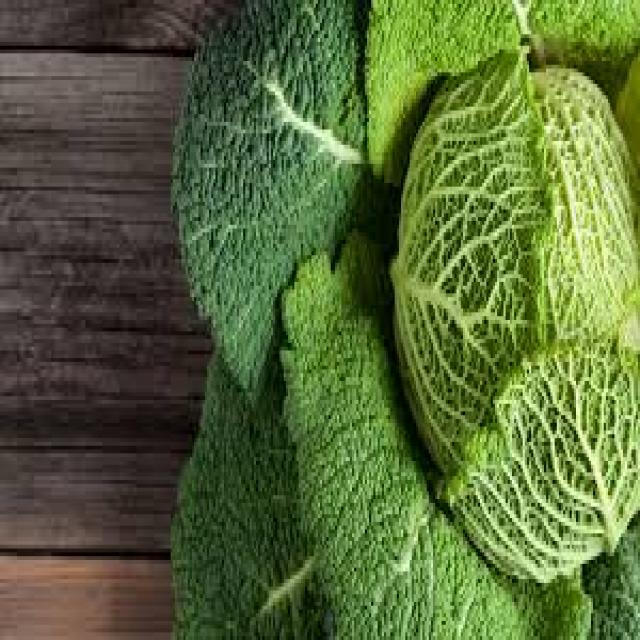organic waste: (166, 0, 638, 636), (390, 46, 638, 575)
